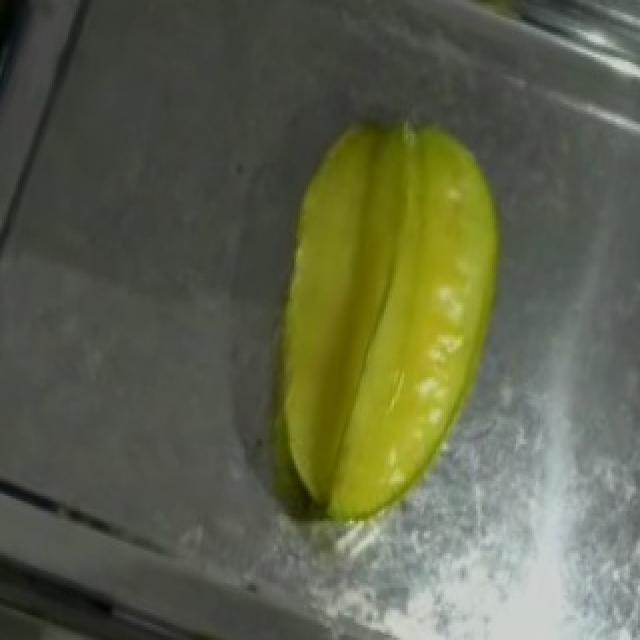fruit: (234, 80, 580, 467)
